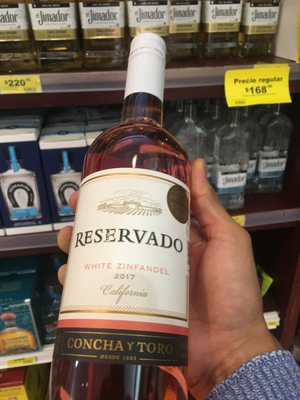reservado white zinfandel: (57, 27, 201, 400)
